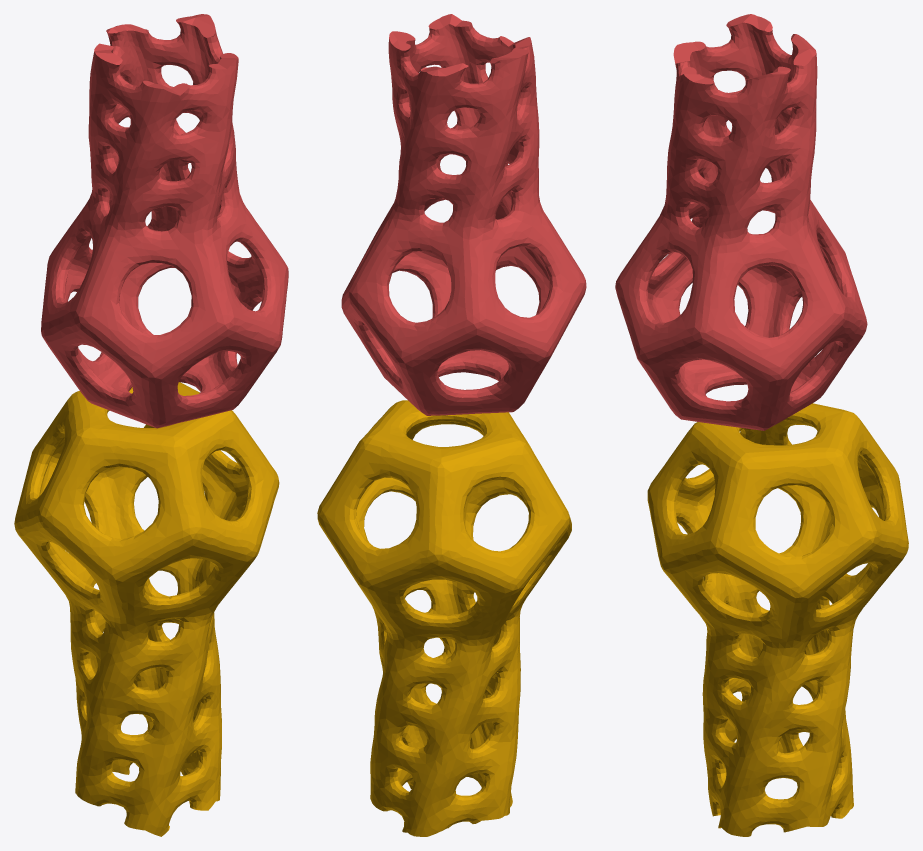
The model's file is fractured_54_2pcs_transformed.glb.
3 renders of one model, left to right at view 1: azimuth 30°, elevation 25°; view 2: azimuth 150°, elevation 25°; view 3: azimuth 270°, elevation 25°, orthographic.
Parts seen in each view (by area): view 1: piece_0.obj, piece_1.obj; view 2: piece_0.obj, piece_1.obj; view 3: piece_0.obj, piece_1.obj.
Part boxes in pixels (left/top/right/bottom): piece_0.obj: left=14, top=382, right=279, bottom=836; piece_1.obj: left=41, top=14, right=288, bottom=428; piece_0.obj: left=317, top=400, right=571, bottom=836; piece_1.obj: left=341, top=14, right=586, bottom=415; piece_0.obj: left=647, top=403, right=908, bottom=836; piece_1.obj: left=615, top=14, right=867, bottom=430.
Size of the model in its own units: 0.3256 by 1.07 by 0.3656.
